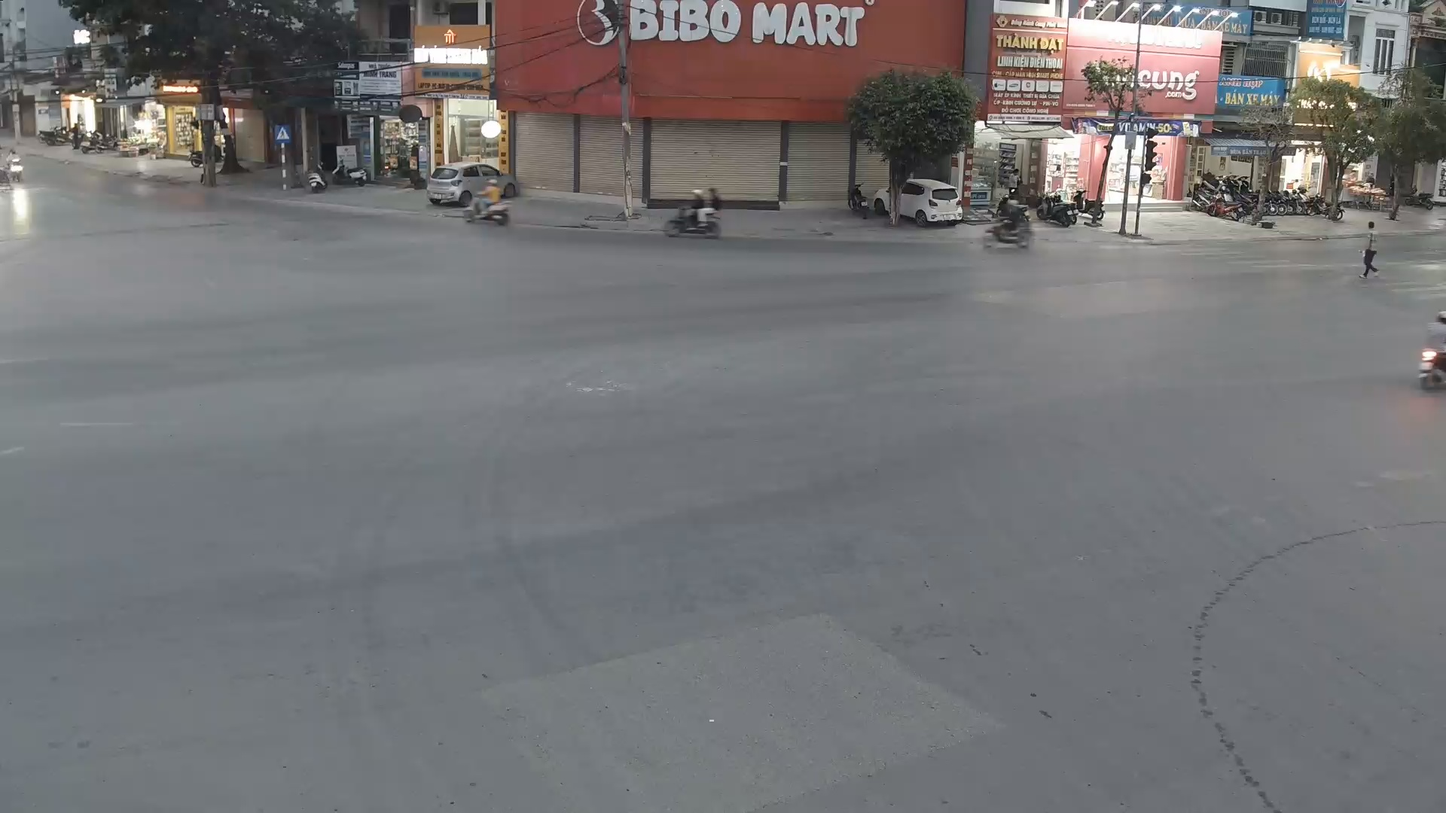motorbike: (1415, 300, 1445, 397), (983, 195, 1036, 249), (463, 171, 512, 226), (663, 206, 723, 239)
pedestrian: (1358, 225, 1382, 282)
